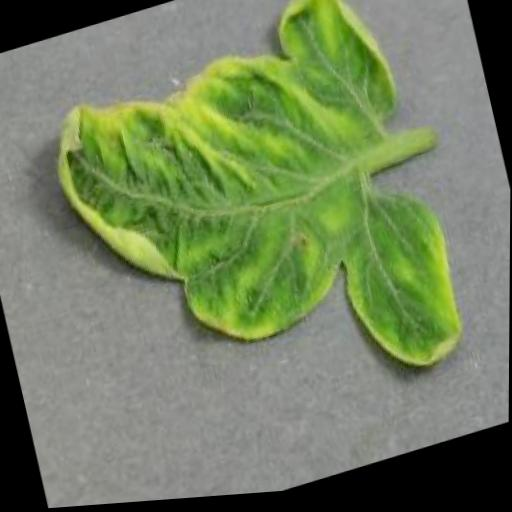Yellow Leaf Curl Virus: (27, 0, 475, 467)
